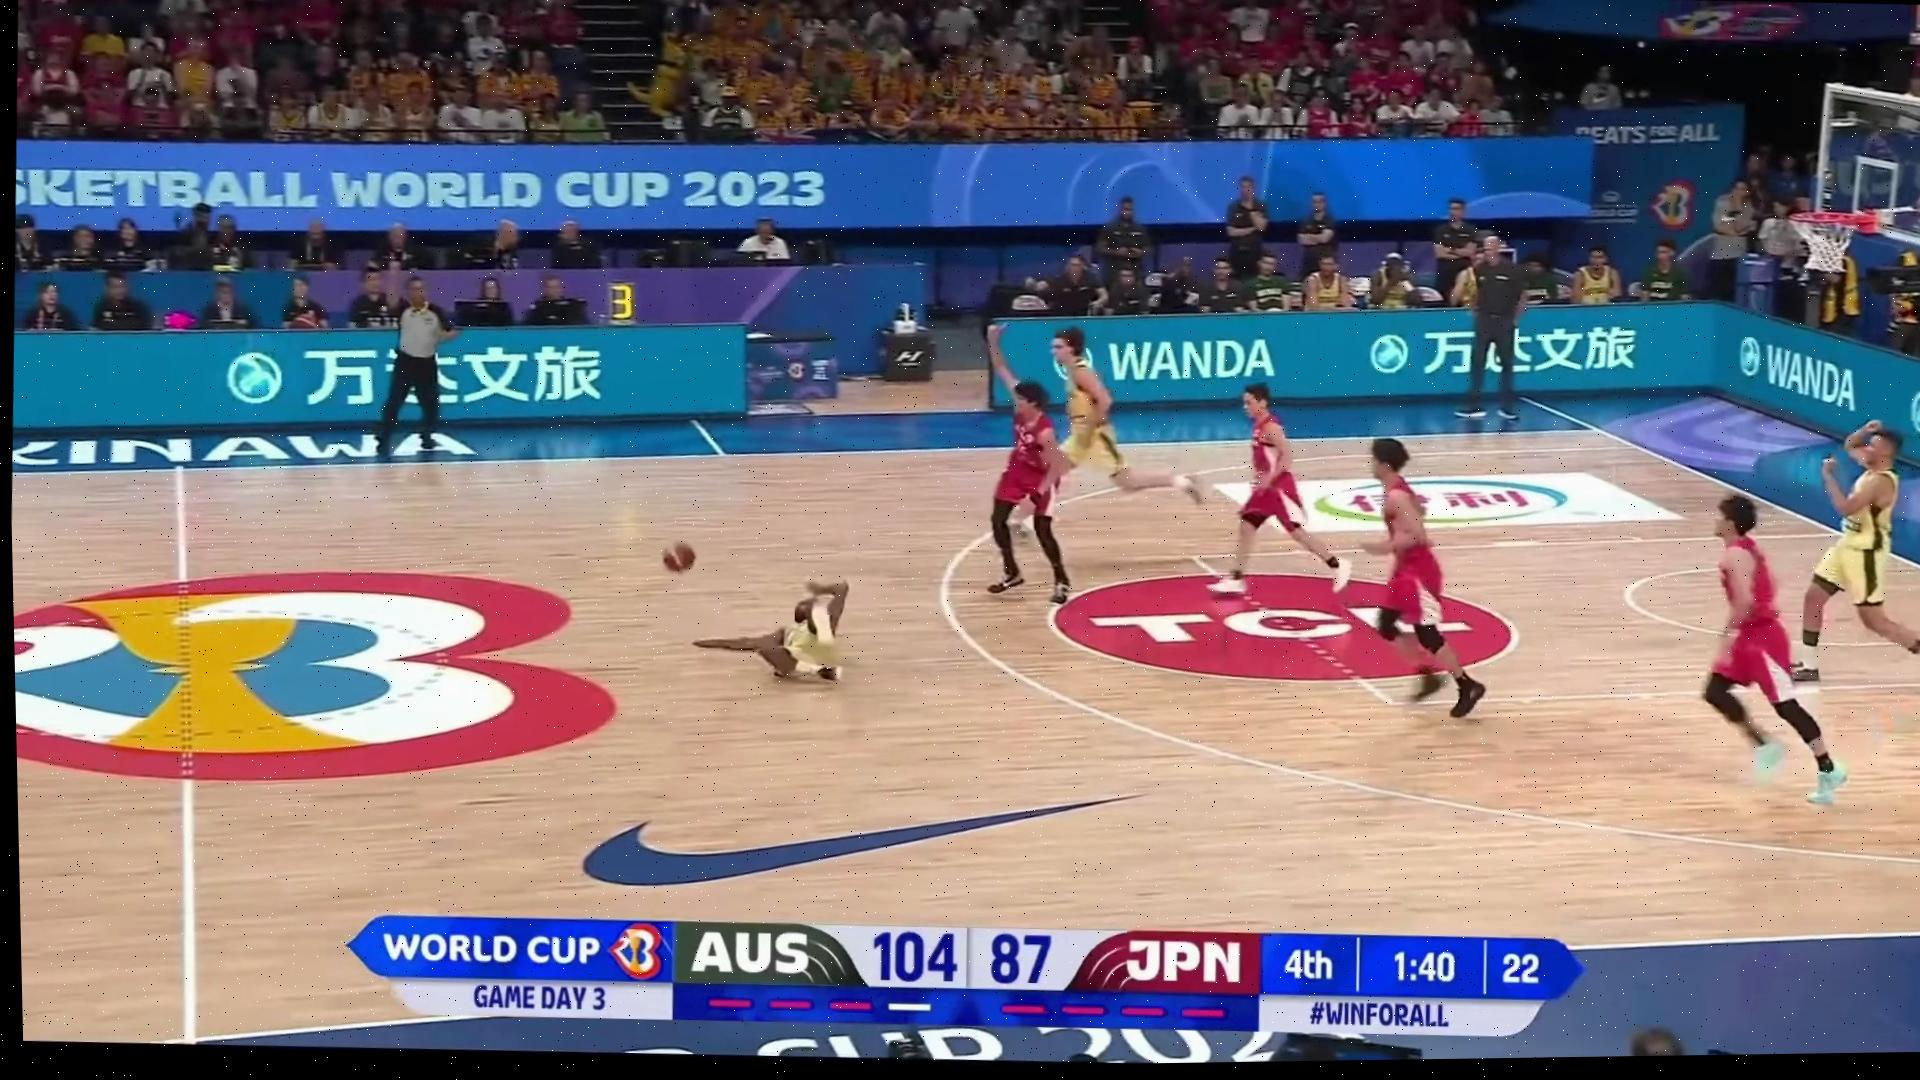foul: (671, 447, 1120, 704)
